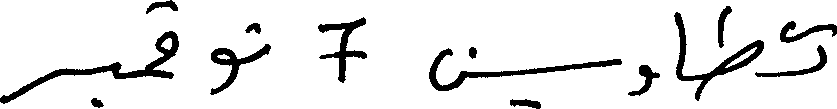7: (317, 14, 365, 83)
ا: (672, 9, 685, 80)
ب: (90, 60, 122, 108)
ت: (814, 22, 835, 73)
ر: (0, 67, 61, 105)
ط: (710, 3, 763, 79)
ف: (140, 0, 179, 57)
م: (140, 63, 173, 82)
ن: (423, 44, 479, 91), (245, 22, 270, 58)
و: (210, 45, 238, 95), (638, 62, 652, 96)
ي: (511, 56, 621, 108)
